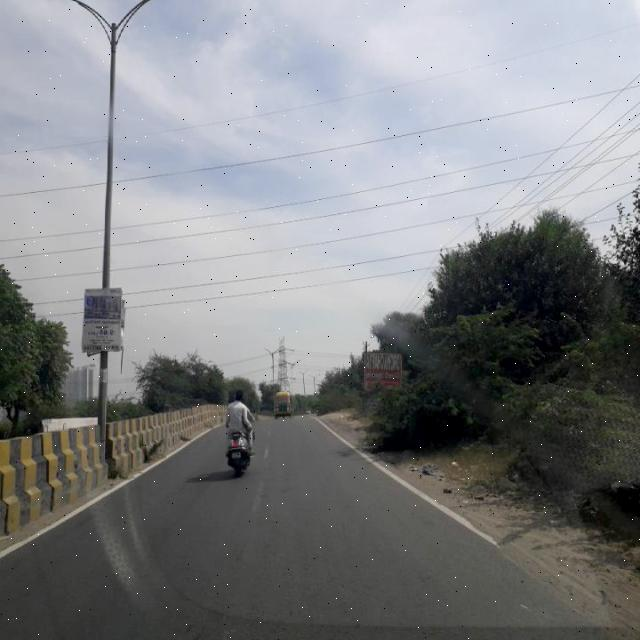D44: (245, 473, 271, 533)
